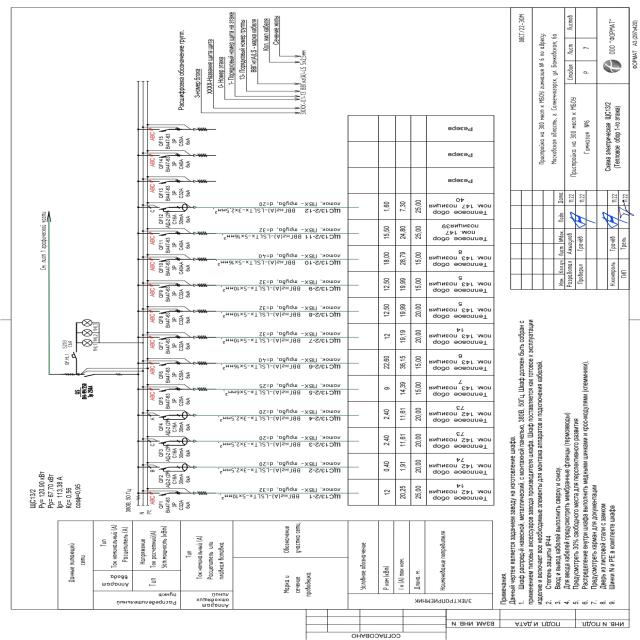-: (164, 419, 192, 436), (164, 260, 192, 277), (164, 156, 192, 173), (165, 366, 191, 384), (165, 184, 191, 202), (165, 238, 192, 255), (165, 286, 192, 303), (165, 497, 192, 514), (165, 393, 191, 410), (165, 471, 191, 488), (165, 338, 192, 354), (165, 211, 190, 228), (165, 312, 191, 328), (165, 446, 191, 462), (166, 133, 190, 150), (82, 381, 96, 400), (29, 488, 38, 509), (61, 340, 73, 349)
HL: (81, 328, 92, 337), (81, 319, 92, 327), (81, 339, 92, 347)
QF: (158, 258, 172, 264), (158, 309, 172, 314), (71, 350, 78, 360), (157, 336, 170, 341), (157, 232, 170, 237), (157, 284, 170, 289), (156, 154, 170, 158), (156, 128, 170, 132), (156, 362, 170, 366), (157, 388, 170, 392), (157, 492, 170, 496), (157, 180, 170, 184)
QFD: (157, 437, 189, 446), (158, 463, 189, 472), (157, 411, 188, 420), (157, 203, 188, 212)
QS: (81, 373, 96, 378)
